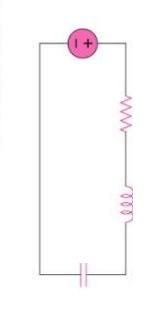resistor: (110, 82, 137, 147)
